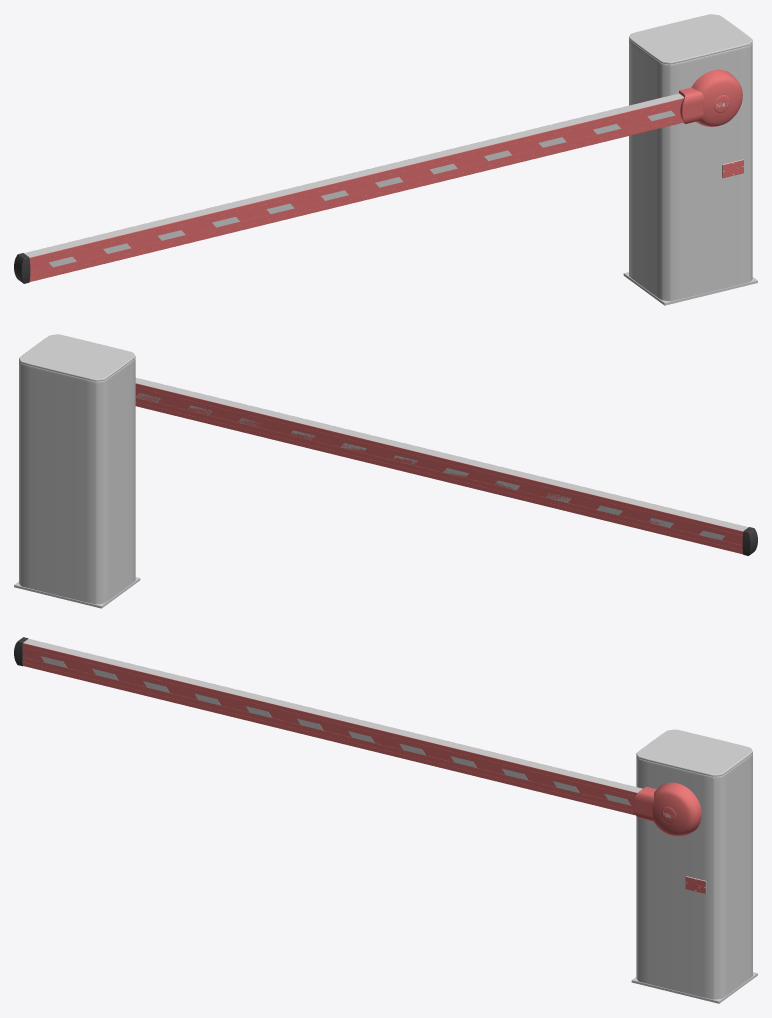
File: barrier.fbx
3 renders of one model, top to bottom at view 1: azimuth 30°, elevation 25°; view 2: azimuth 150°, elevation 25°; view 3: azimuth 330°, elevation 25°, orthographic. The views are drawn at different scales.
Parts seen in each view (by area): view 1: Barrier1:Barrier_Nice_; view 2: Barrier1:Barrier_Nice_; view 3: Barrier1:Barrier_Nice_.
Boxes of the visible parts, <box> form: Barrier1:Barrier_Nice_: <box>14,14,757,305</box>; Barrier1:Barrier_Nice_: <box>14,334,757,608</box>; Barrier1:Barrier_Nice_: <box>14,637,757,1003</box>.
Bounding box in the file's own units: 339 × 105 × 39.92.
